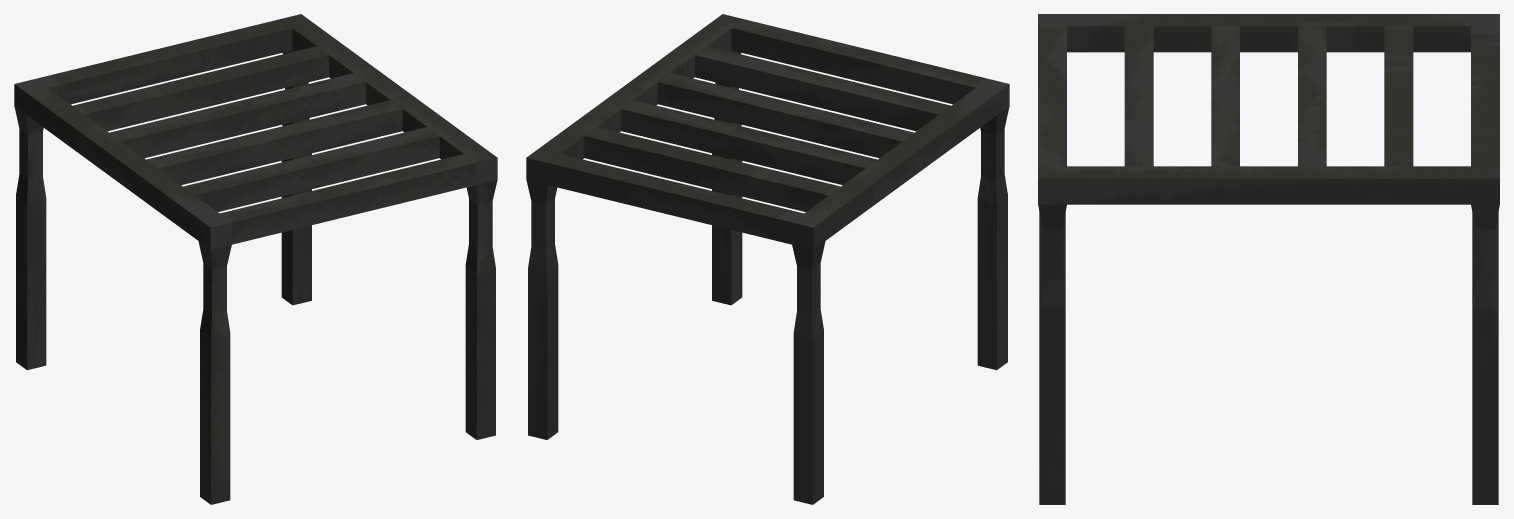
Rendered from pavillon.fbx.
3 views of the same model, side by side, from view 1: azimuth 30°, elevation 25°; view 2: azimuth 150°, elevation 25°; view 3: azimuth 270°, elevation 25° (orthographic). The views are drawn at different scales.
Visible parts, largest first — view 1: Pavillon; view 2: Pavillon; view 3: Pavillon.
Part boxes in pixels (x1,y1,x2,y2): Pavillon: (14, 14, 497, 504); Pavillon: (526, 14, 1009, 504); Pavillon: (1038, 14, 1499, 504).
Size of the model in its own units: 270 by 250 by 320.
